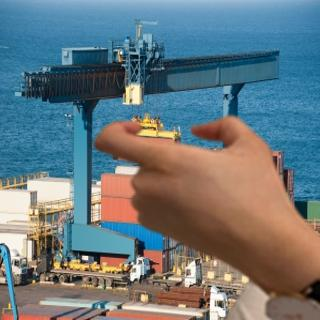HATE: (86, 114, 302, 266)
